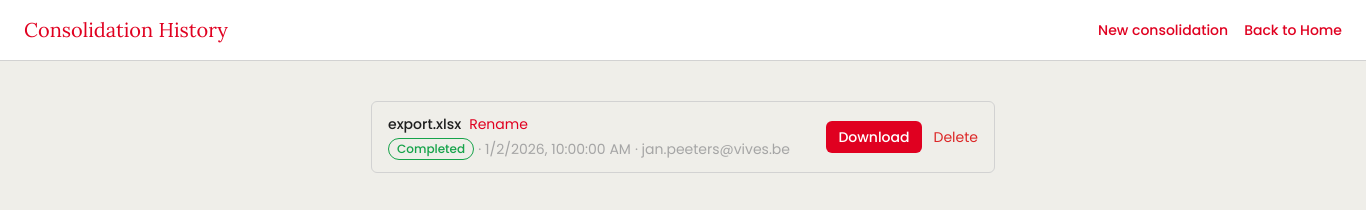
Test case: ConsolidationsHistoryView › inline rename › saves the new name and shows it, keeping the original filename visible
Click the button with test id "consolidation-history-rename": (499, 124) 469,114 -> 528,134
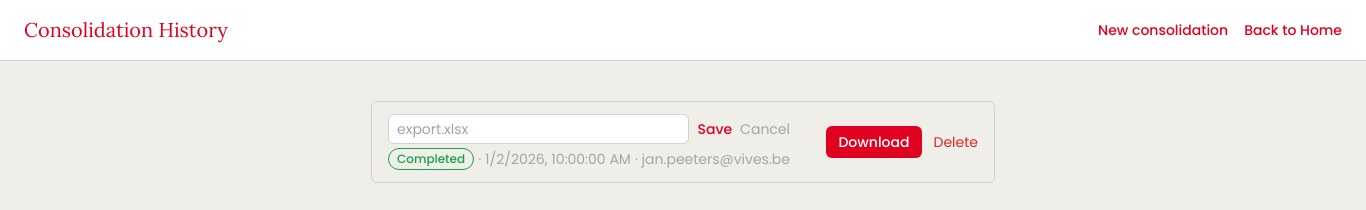
In the field with test id "consolidation-history-rename-input": (539, 129) 388,114 -> 690,144, type "  Pilot dogs, week 3  "
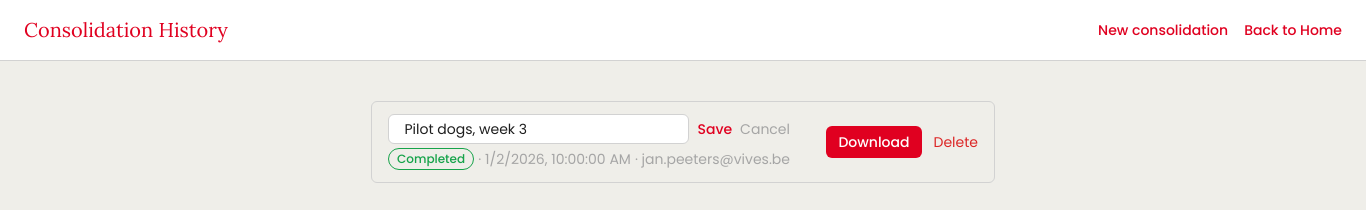
Click the button with test id "consolidation-history-rename-save": (715, 129) 698,119 -> 732,139
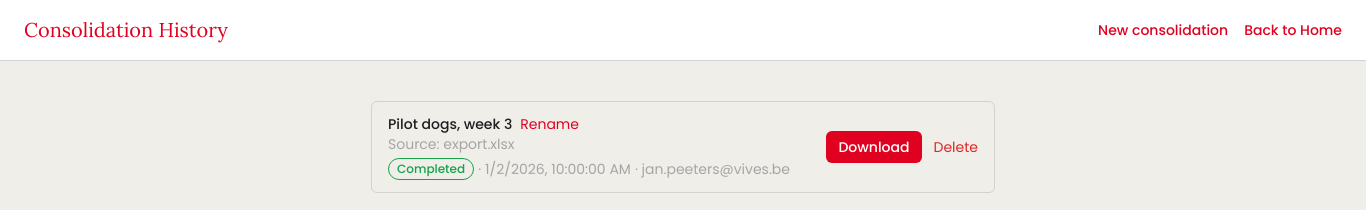
Expected: the text with test id "consolidation-history-name" reads "Pilot dogs, week 3", 388,114 -> 512,134
Expected: the text with test id "consolidation-history-original-filename" shows "export.xlsx", 388,134 -> 514,154
